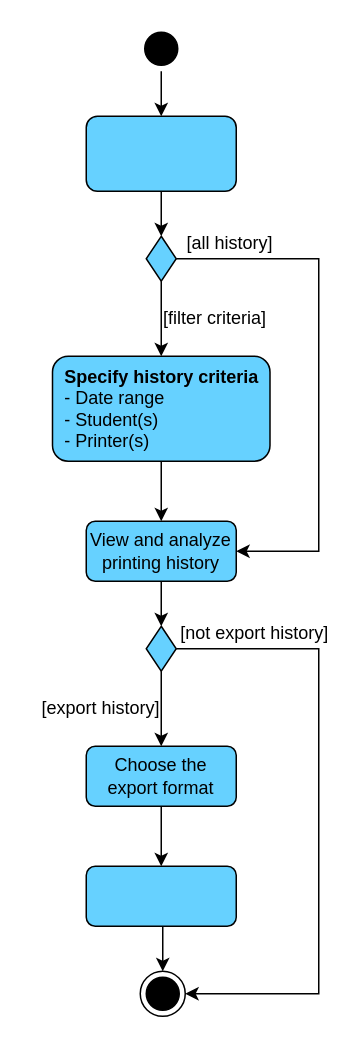
This 359x1043 diagram has some shape labels left out. Here are the shapes that lost their labels. From the top down, the centre of each, then its label:
(x=160, y=153): Click "View Printing History" section
(x=160, y=895): Export history data
